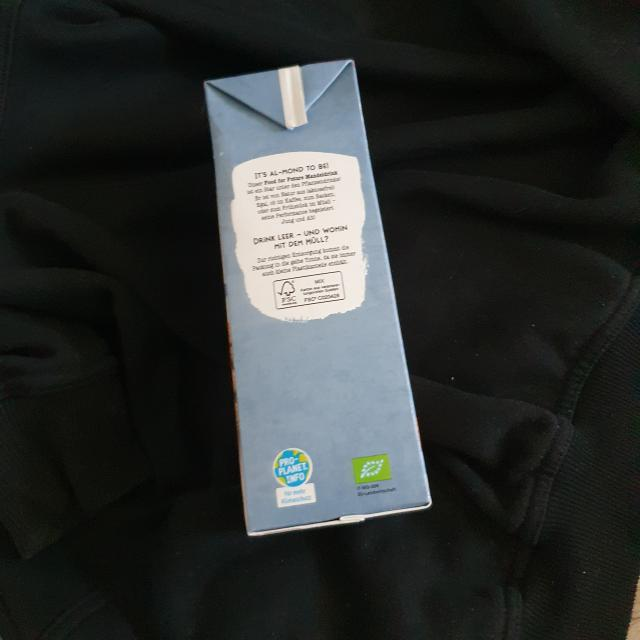PaperCardboard: (190, 51, 444, 548)
